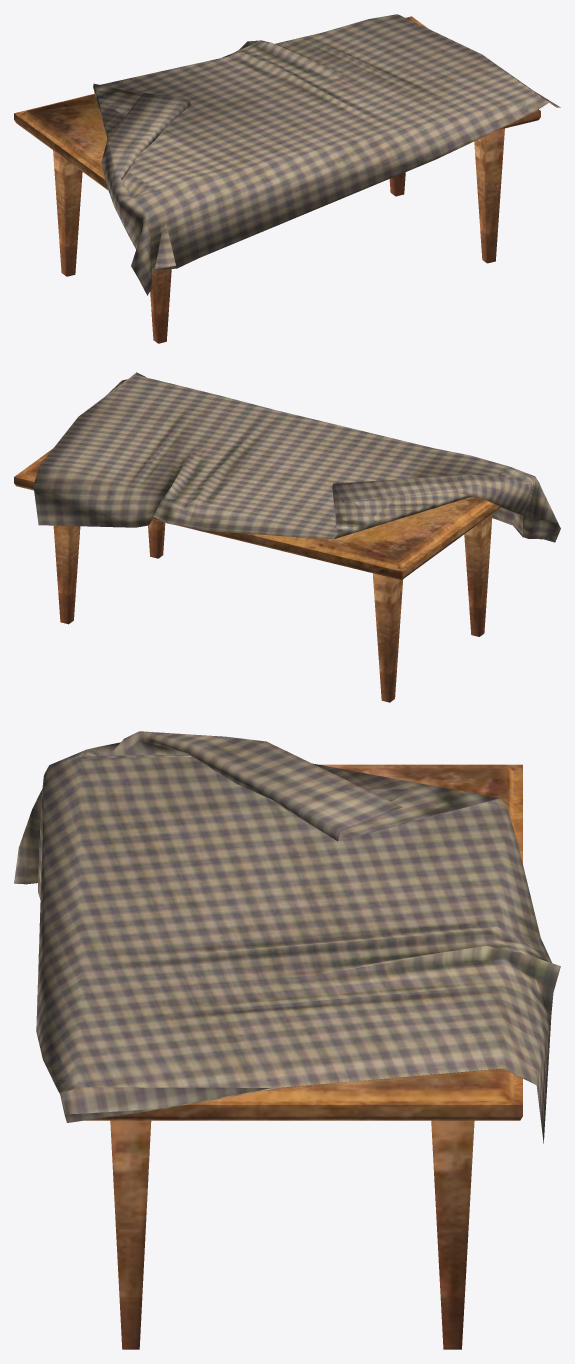
The model's file is dining_table.glb.
3 views of the same model, one above another, from view 1: azimuth 30°, elevation 25°; view 2: azimuth 150°, elevation 25°; view 3: azimuth 270°, elevation 25° (orthographic). The views are drawn at different scales.
Visible parts, largest first — view 1: dining_table_cloth, dining_table; view 2: dining_table_cloth, dining_table; view 3: dining_table_cloth, dining_table.
Part boxes in pixels (x1,y1,x2,y2): dining_table_cloth: (93, 14, 560, 295); dining_table: (14, 16, 540, 343); dining_table_cloth: (33, 372, 560, 542); dining_table: (14, 448, 501, 702); dining_table_cloth: (14, 731, 560, 1143); dining_table: (85, 764, 522, 1349).
Size of the model in its own units: 2.26 by 0.877 by 1.39.
Materials: 1 (1 with a texture image).
